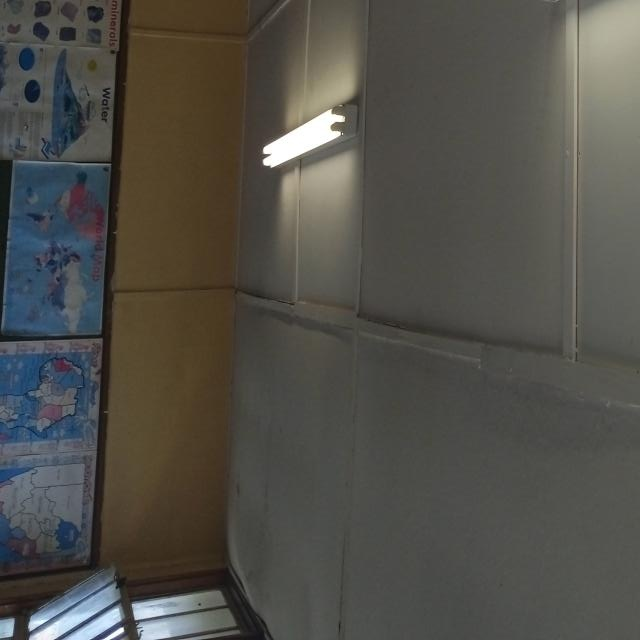fluorescent tube: (240, 103, 385, 199), (509, 0, 640, 29)
